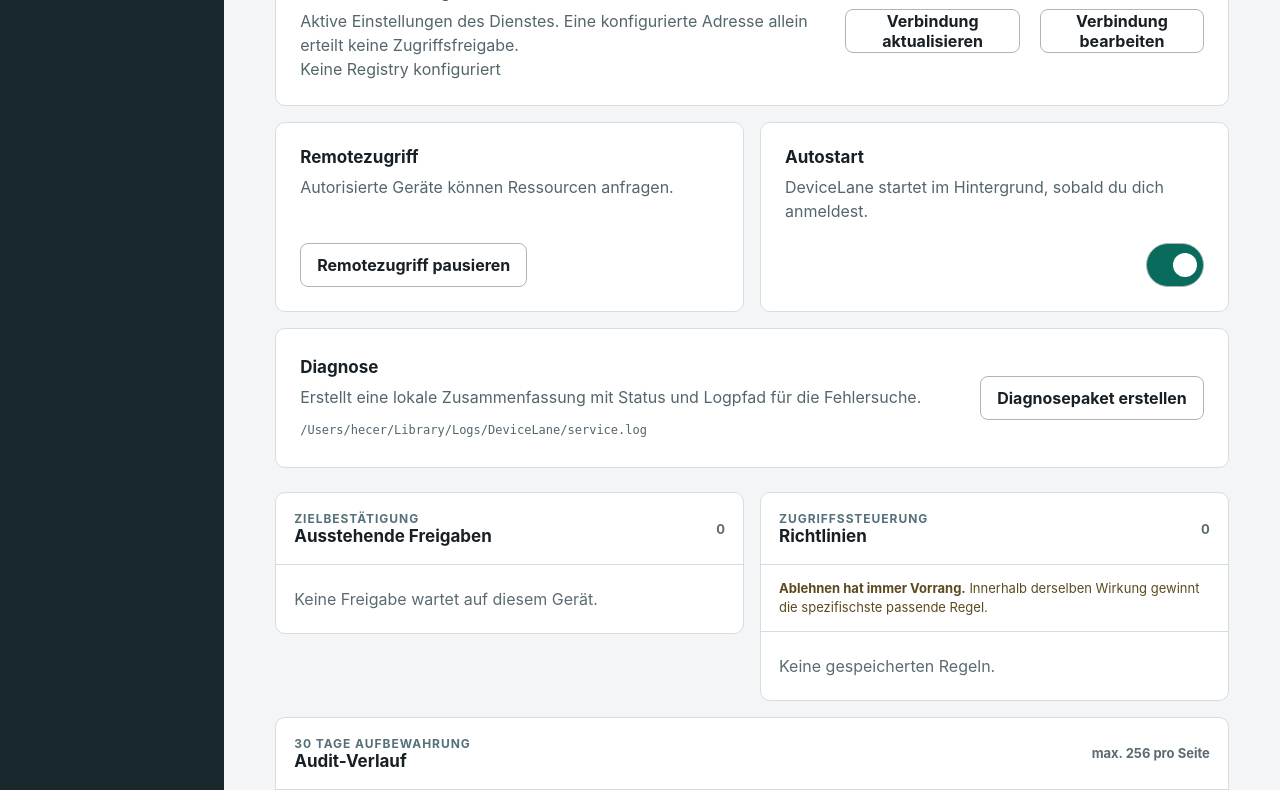
Test case: DeviceLane desktop foundation › keeps a diagnostics rejection in the shared accessible error region
The width and height of the screenshot is (1280, 790).
(page scrolled)
Click the button "Diagnosepaket erstellen". click: x=1092, y=398
box: [980,376,1204,420]
(page scrolled)
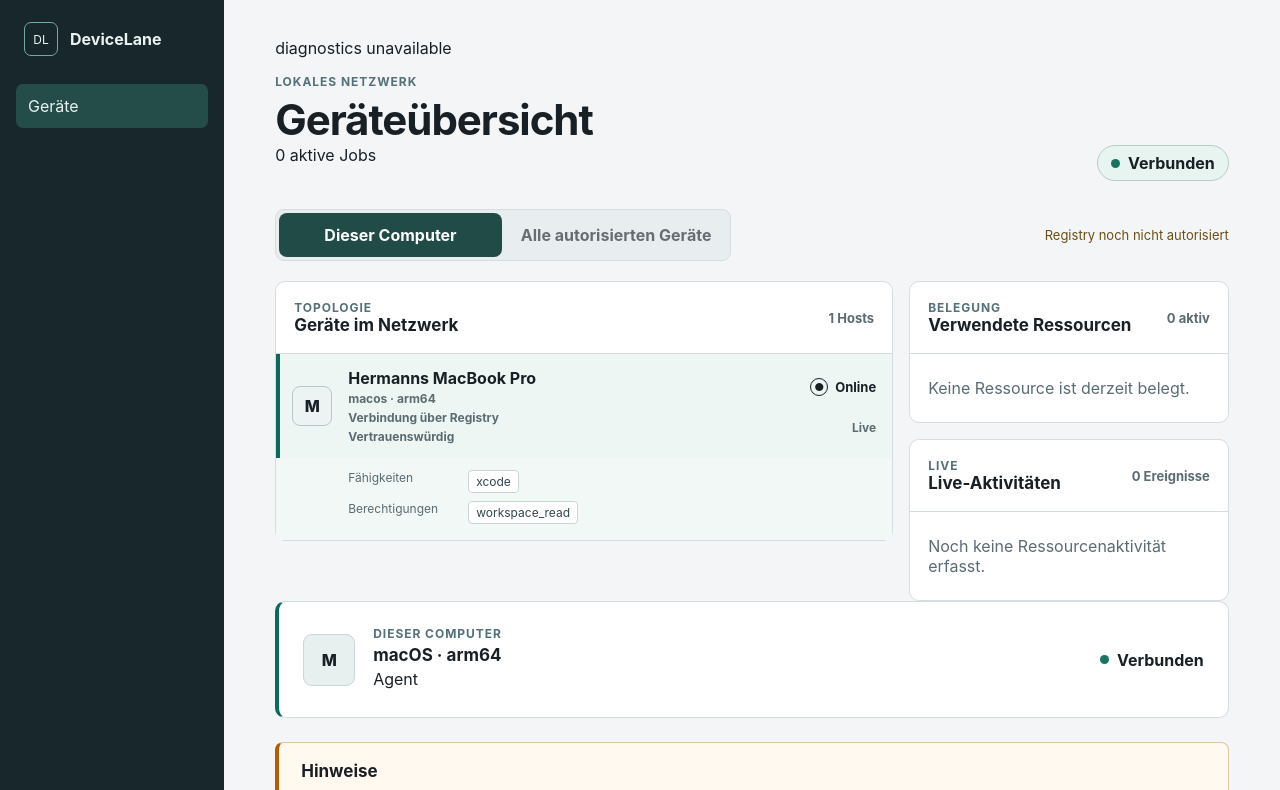
Now the message reads "diagnostics unavailable", box [275,38,452,58]
